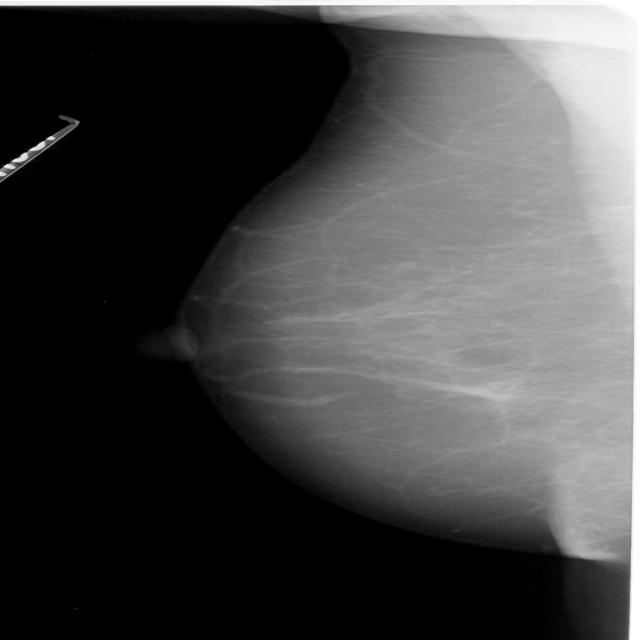normal: (169, 18, 640, 564)
